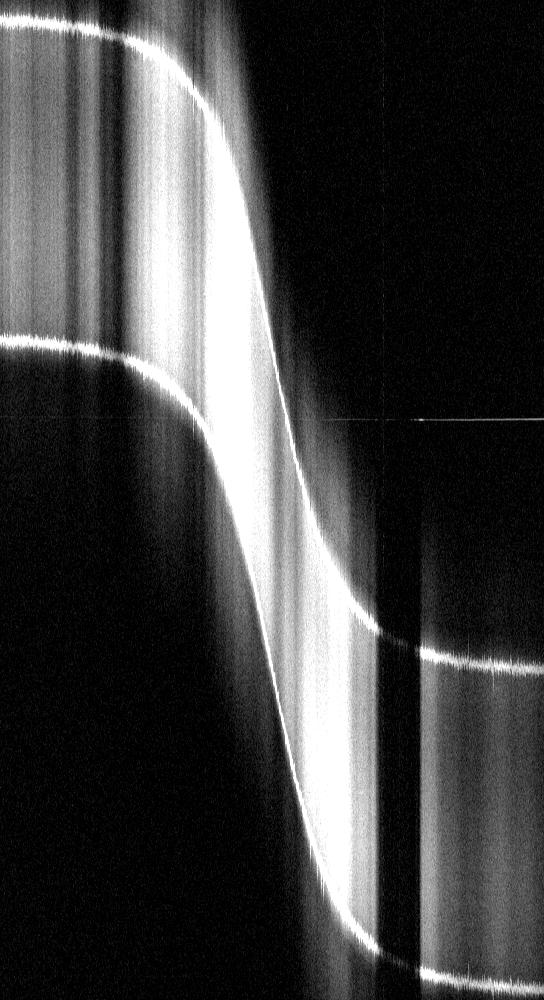signal: (0, 0, 543, 999)
